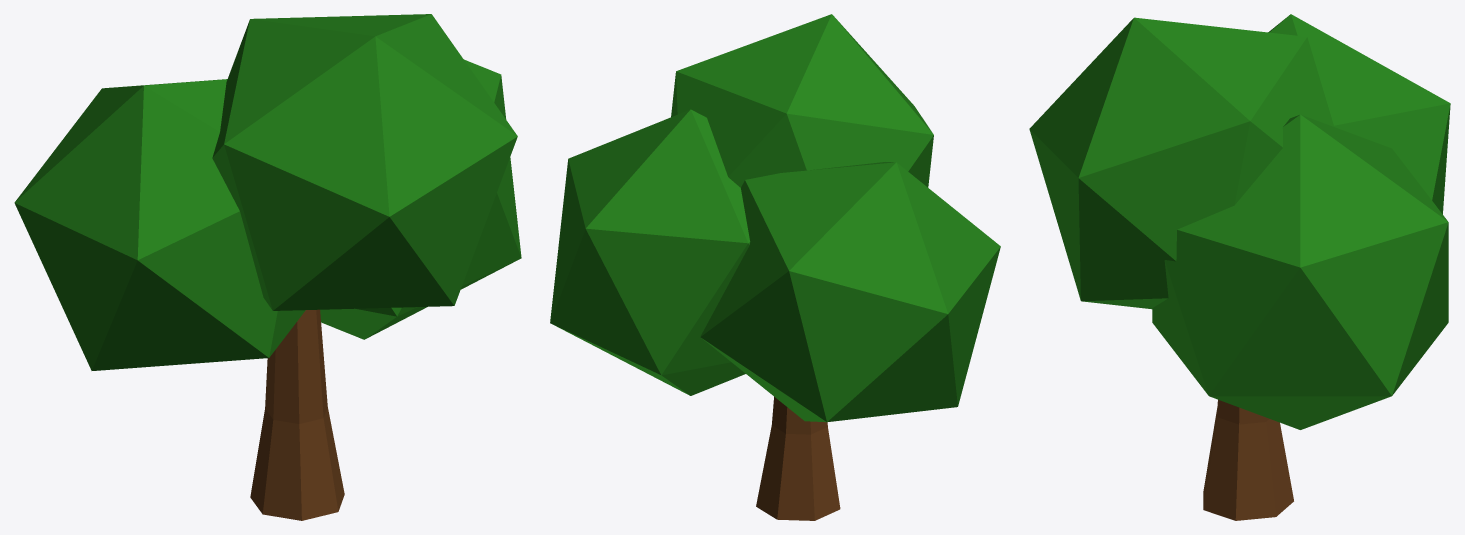
File: tree1.fbx
The picture shows the model from 3 angles, left to right: view 1: azimuth 30°, elevation 25°; view 2: azimuth 150°, elevation 25°; view 3: azimuth 270°, elevation 25°; orthographic projection. The views are drawn at different scales.
Visible parts, largest first — view 1: tree2; view 2: tree2; view 3: tree2.
Part boxes in pixels (left/top/right/bottom): tree2: left=14, top=14, right=521, bottom=520; tree2: left=550, top=14, right=1000, bottom=520; tree2: left=1029, top=14, right=1450, bottom=520.
Bounding box in the file's own units: 453 × 475 × 368.
